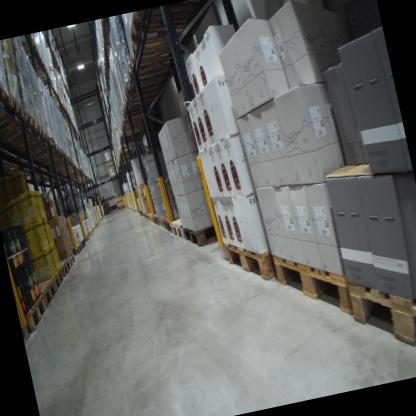pallet: (270, 238, 355, 332), (344, 263, 416, 370), (125, 0, 212, 46), (220, 225, 281, 289), (126, 30, 195, 68), (0, 108, 41, 152), (123, 55, 172, 89), (180, 213, 223, 250), (122, 70, 174, 99), (18, 291, 52, 334), (5, 119, 48, 153), (0, 92, 30, 140), (120, 93, 165, 119), (31, 276, 60, 310), (22, 140, 63, 163), (0, 75, 17, 126), (120, 87, 160, 108), (24, 135, 58, 157), (170, 215, 195, 241), (21, 132, 52, 152), (162, 211, 186, 235), (18, 37, 40, 59), (47, 266, 67, 290), (52, 256, 73, 278), (118, 117, 145, 131), (69, 242, 84, 257), (152, 210, 166, 226), (156, 214, 167, 230), (66, 253, 77, 266), (144, 211, 156, 222), (48, 65, 57, 78), (79, 237, 87, 248), (82, 233, 91, 242), (108, 173, 118, 181), (102, 210, 113, 216), (117, 204, 126, 211), (149, 213, 155, 223), (143, 210, 148, 220), (111, 207, 119, 213)
